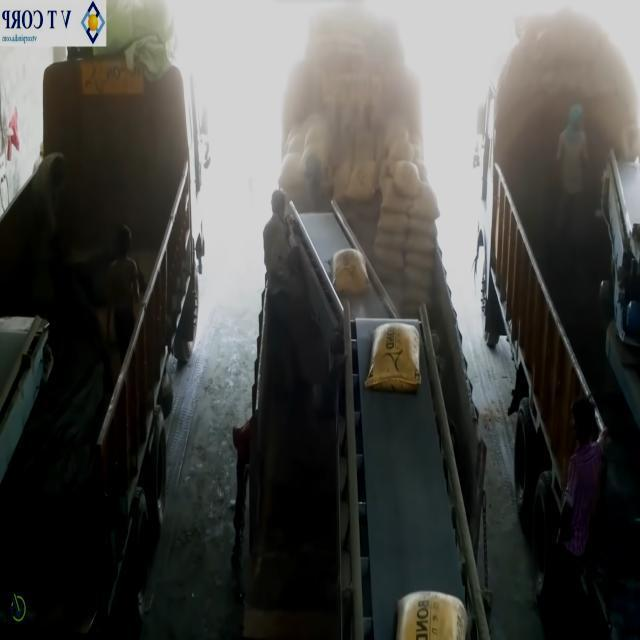gunny_bag: (365, 322, 422, 392), (396, 591, 468, 640), (332, 247, 369, 293), (346, 159, 376, 200), (409, 181, 440, 219), (381, 176, 412, 213), (393, 159, 421, 196), (374, 243, 404, 269), (404, 264, 433, 288), (378, 210, 409, 231), (409, 215, 437, 237), (406, 232, 436, 252), (375, 229, 406, 247), (405, 251, 434, 270)
